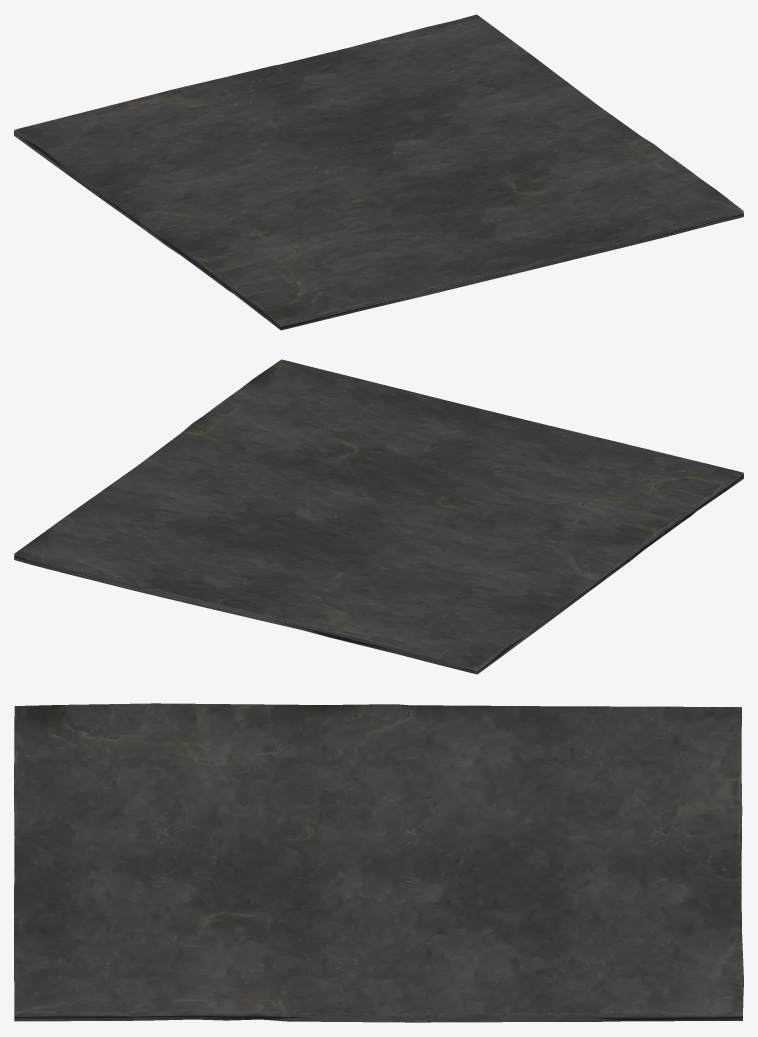
The picture shows the model from 3 angles, top to bottom: view 1: azimuth 30°, elevation 25°; view 2: azimuth 150°, elevation 25°; view 3: azimuth 270°, elevation 25°; orthographic projection. The views are drawn at different scales.
Visible parts, largest first — view 1: SM_HallWayCeilingTile_v2_LOD0; view 2: SM_HallWayCeilingTile_v2_LOD0; view 3: SM_HallWayCeilingTile_v2_LOD0.
Boxes of the visible parts, left/top/right/bottom form: SM_HallWayCeilingTile_v2_LOD0: left=14, top=14, right=743, bottom=330; SM_HallWayCeilingTile_v2_LOD0: left=14, top=359, right=743, bottom=674; SM_HallWayCeilingTile_v2_LOD0: left=14, top=703, right=743, bottom=1022.
Bounding box in the file's own units: 6 × 0.1069 × 6.
Materials: 1 (1 with a texture image).
